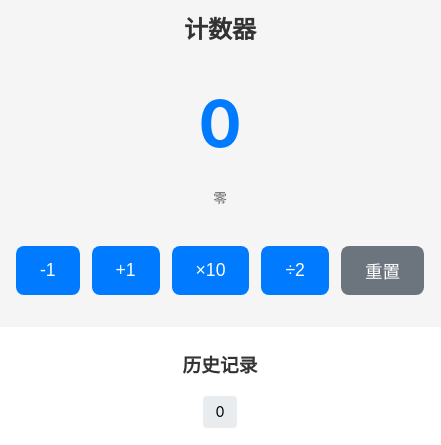
Test: Counter › should increment count when +1 button is clicked
Click the button "+1" at point(126, 270), box x1=92 y1=246 x2=160 y2=294
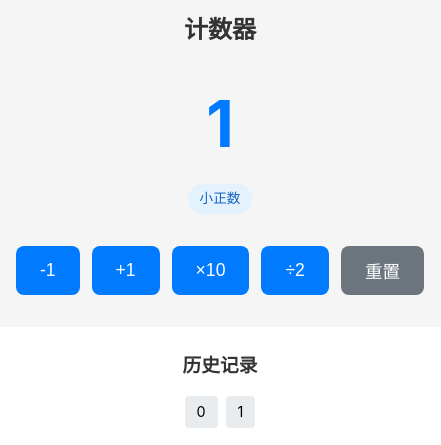
Expected: the text "小正数" is shown, x1=188 y1=184 x2=252 y2=214
